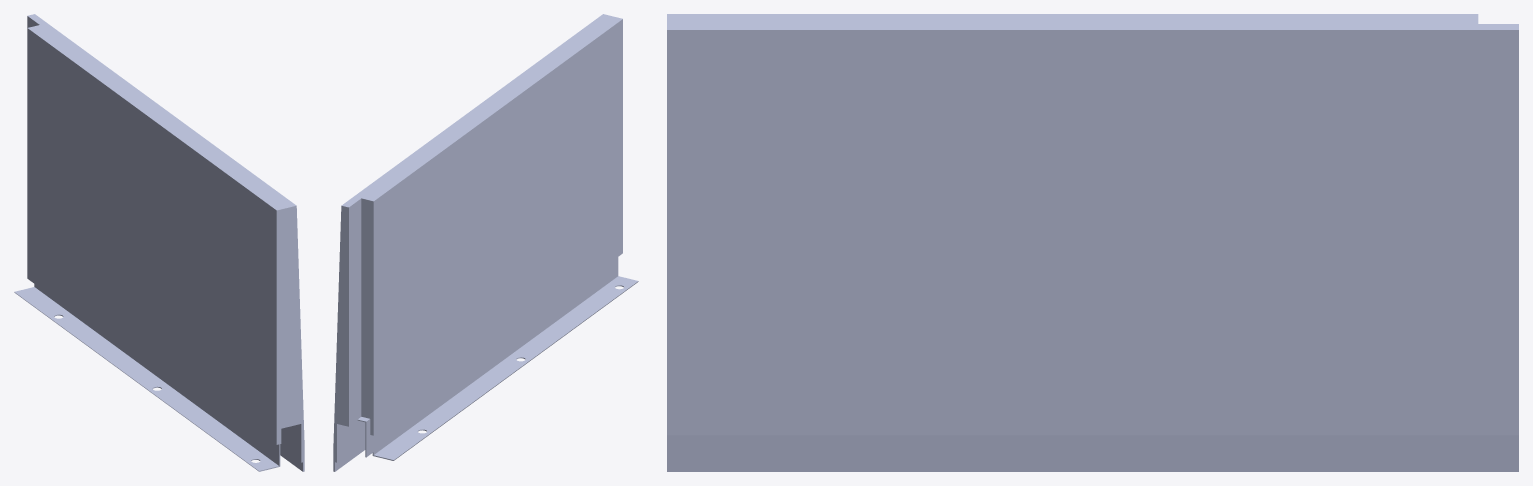
File: mv-kava-E350-m.glb
3 renders of one model, left to right at view 1: azimuth 30°, elevation 25°; view 2: azimuth 150°, elevation 25°; view 3: azimuth 270°, elevation 25°, orthographic. The views are drawn at different scales.
Parts seen in each view (by area): view 1: 44096839; view 2: 44096839; view 3: 44096839.
Part boxes in pixels (x1=…): 44096839: x1=14, y1=14, x2=304, y2=471; 44096839: x1=333, y1=14, x2=638, y2=471; 44096839: x1=667, y1=14, x2=1518, y2=471.
Bounding box in the file's own units: 0.0335 × 0.192 × 0.3402.
